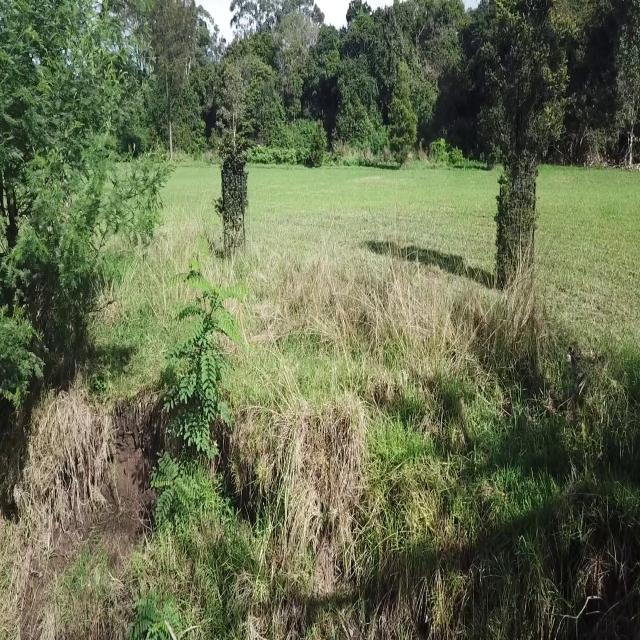Mysore-Thorn-Weed: (155, 237, 250, 462), (152, 452, 209, 531), (126, 579, 187, 640)
